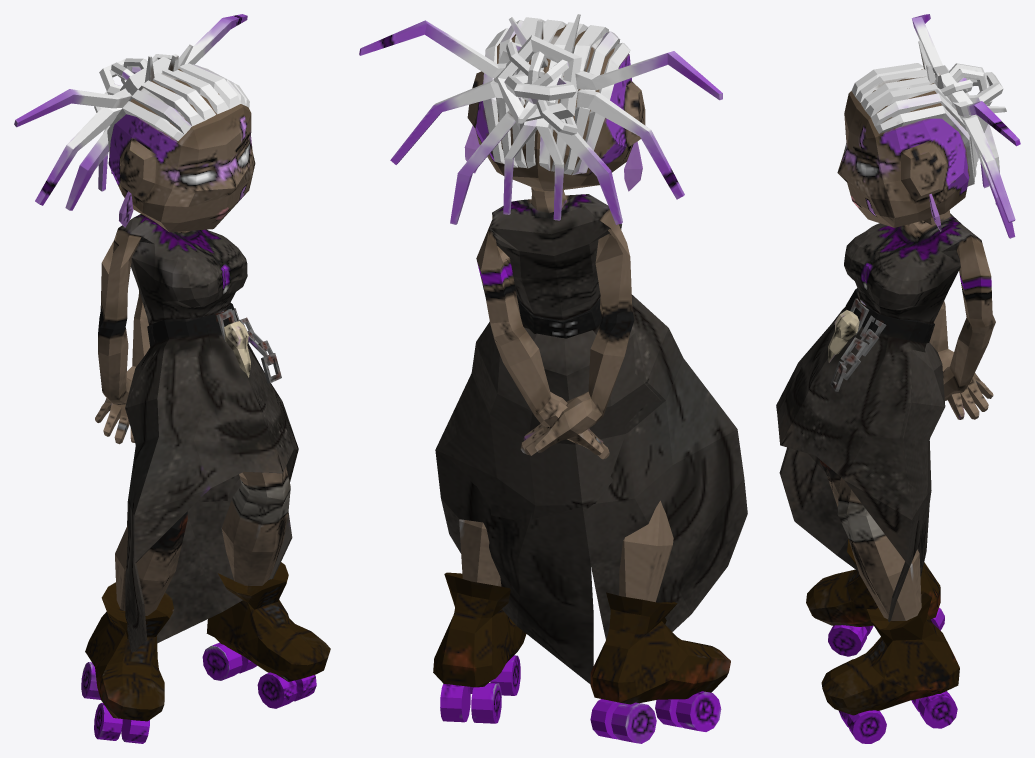
Rendered from bruja_000014.obj.
The picture shows the model from 3 angles, left to right: view 1: azimuth 30°, elevation 25°; view 2: azimuth 150°, elevation 25°; view 3: azimuth 270°, elevation 25°; orthographic projection. The views are drawn at different scales.
Visible parts, largest first — view 1: Bruja_Plane.001; view 2: Bruja_Plane.001; view 3: Bruja_Plane.001.
Boxes of the visible parts, x1=… form: Bruja_Plane.001: x1=14, y1=14, x2=330, y2=743; Bruja_Plane.001: x1=359, y1=14, x2=747, y2=743; Bruja_Plane.001: x1=776, y1=14, x2=1020, y2=743.
Size of the model in its own units: 7.18 by 16.15 by 5.58.
